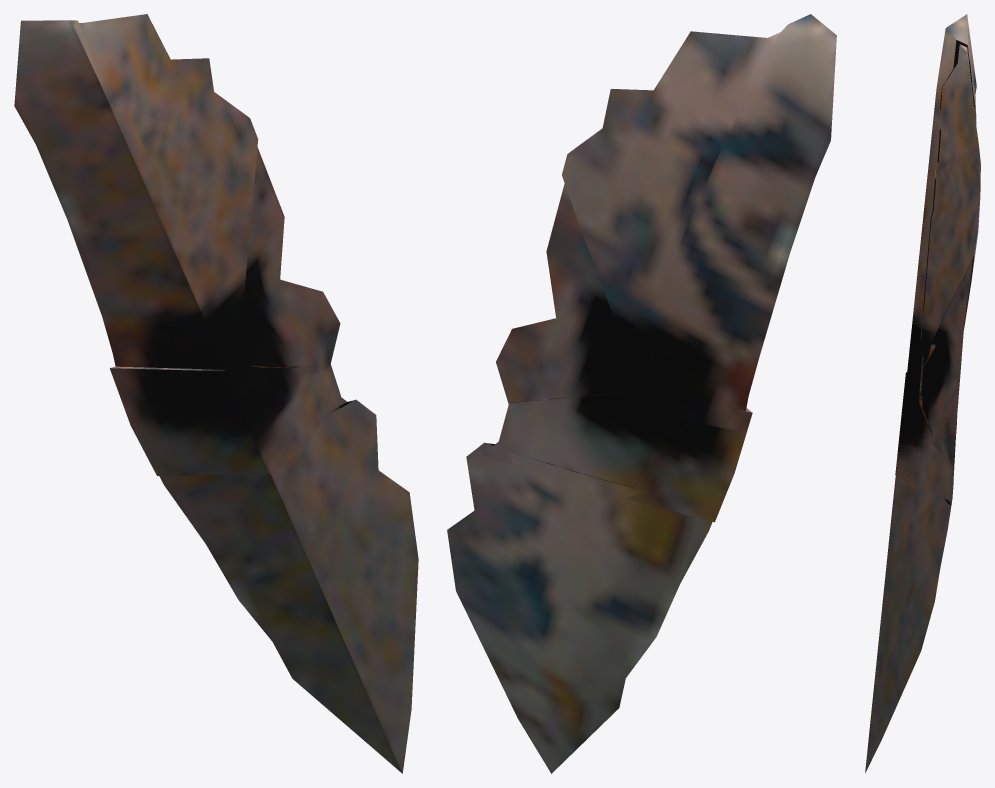
File: Ceramic024.gltf
The picture shows the model from 3 angles, left to right: view 1: azimuth 30°, elevation 25°; view 2: azimuth 150°, elevation 25°; view 3: azimuth 270°, elevation 25°; orthographic projection. The views are drawn at different scales.
Visible parts, largest first — view 1: Ceramic024_002, Ceramic024_001, Ceramic024, Ceramic024_004, Ceramic024_003; view 2: Ceramic024_002, Ceramic024_001, Ceramic024, Ceramic024_004, Ceramic024_003; view 3: Ceramic024_002, Ceramic024, Ceramic024_003, Ceramic024_001, Ceramic024_004.
Part boxes in pixels (x1,y1,x2,y2): Ceramic024_002: [159, 399, 418, 773]; Ceramic024_001: [14, 20, 251, 389]; Ceramic024: [79, 14, 258, 338]; Ceramic024_004: [109, 364, 346, 475]; Ceramic024_003: [238, 147, 340, 374]; Ceramic024_002: [447, 442, 712, 773]; Ceramic024_001: [614, 14, 836, 431]; Ceramic024: [562, 31, 780, 364]; Ceramic024_004: [482, 393, 752, 522]; Ceramic024_003: [496, 183, 629, 403]; Ceramic024_002: [865, 464, 953, 773]; Ceramic024: [921, 44, 980, 367]; Ceramic024_003: [921, 260, 972, 465]; Ceramic024_001: [905, 14, 976, 403]; Ceramic024_004: [895, 372, 957, 503].
Bounding box in the file's own units: 0.061 × 0.1238 × 0.0205.
1 material, 1 textured.
